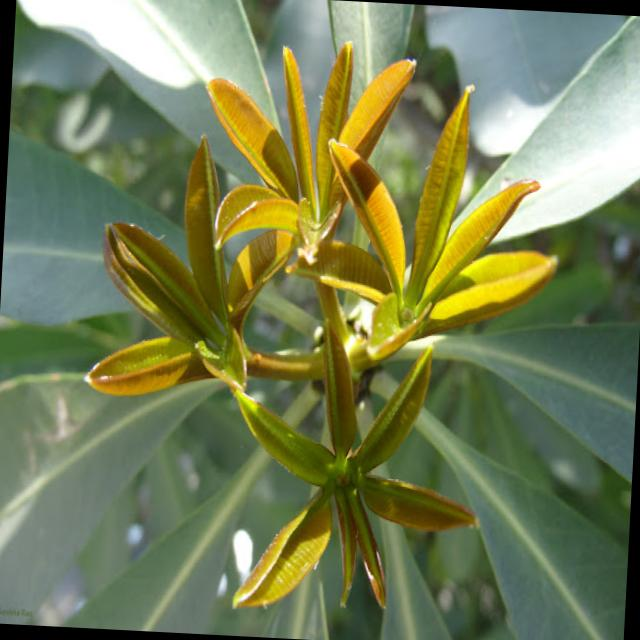Indian Pulai: (316, 170, 526, 441), (246, 392, 478, 606), (108, 82, 269, 388), (223, 81, 342, 242)
